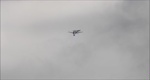maybay_muctieu: (67, 27, 80, 37)
